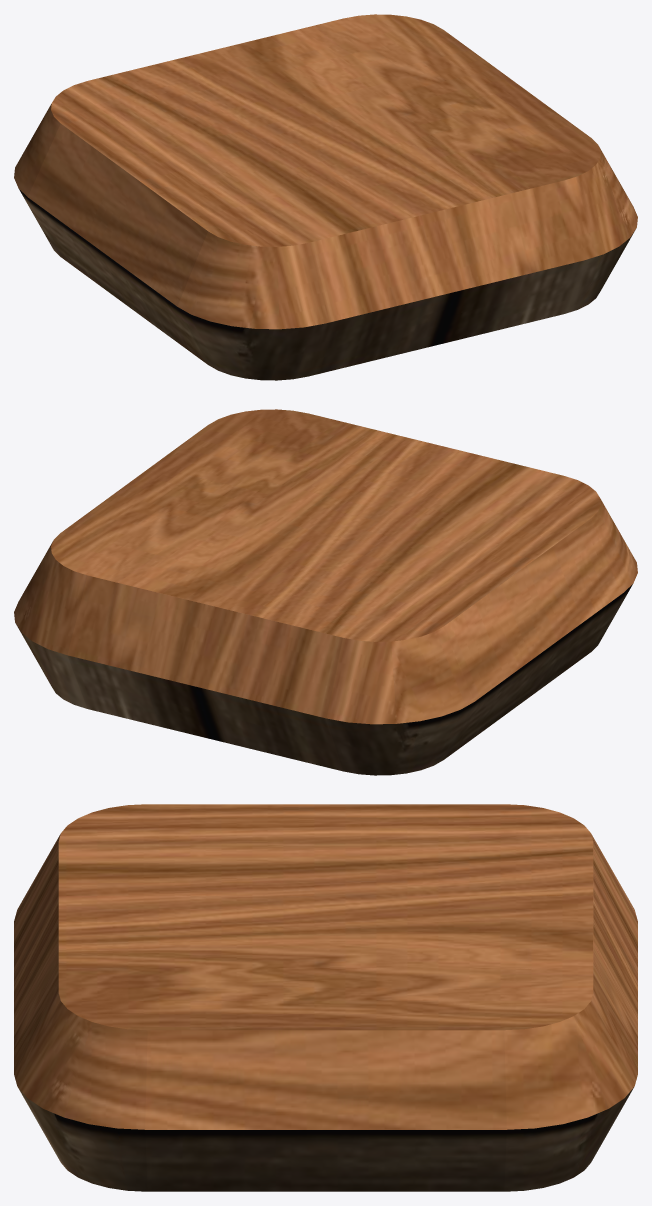
Rendered from Lesson 10 practice.glb.
3 views of the same model, one above another, from view 1: azimuth 30°, elevation 25°; view 2: azimuth 150°, elevation 25°; view 3: azimuth 270°, elevation 25° (orthographic). The views are drawn at different scales.
Visible parts, largest first — view 1: Rectangle1.001, Rectangle0.001; view 2: Rectangle1.001, Rectangle0.001; view 3: Rectangle1.001, Rectangle0.001.
Part boxes in pixels (bbox=[...]): Rectangle1.001: bbox=[14, 14, 637, 329]; Rectangle0.001: bbox=[19, 189, 634, 380]; Rectangle1.001: bbox=[14, 409, 637, 724]; Rectangle0.001: bbox=[17, 584, 632, 775]; Rectangle1.001: bbox=[14, 804, 637, 1129]; Rectangle0.001: bbox=[18, 1087, 633, 1191].
Size of the model in its own units: 0.07 by 0.02 by 0.07.
Materials: 2 (2 with a texture image).
